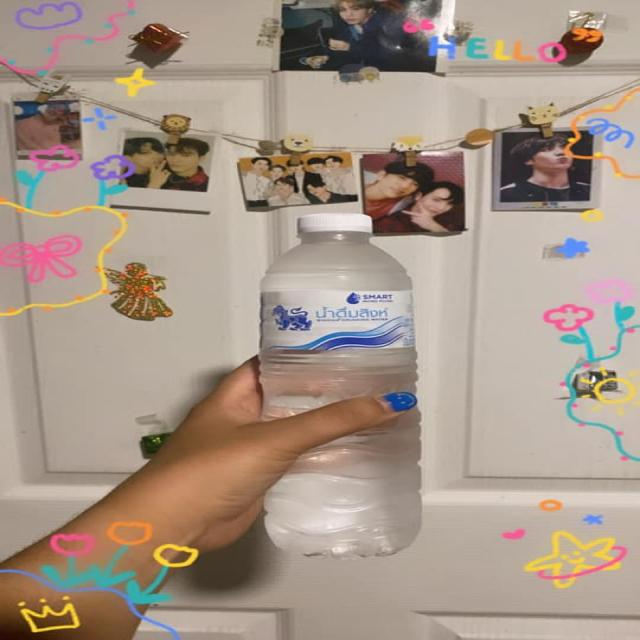bottle: (252, 212, 422, 558)
